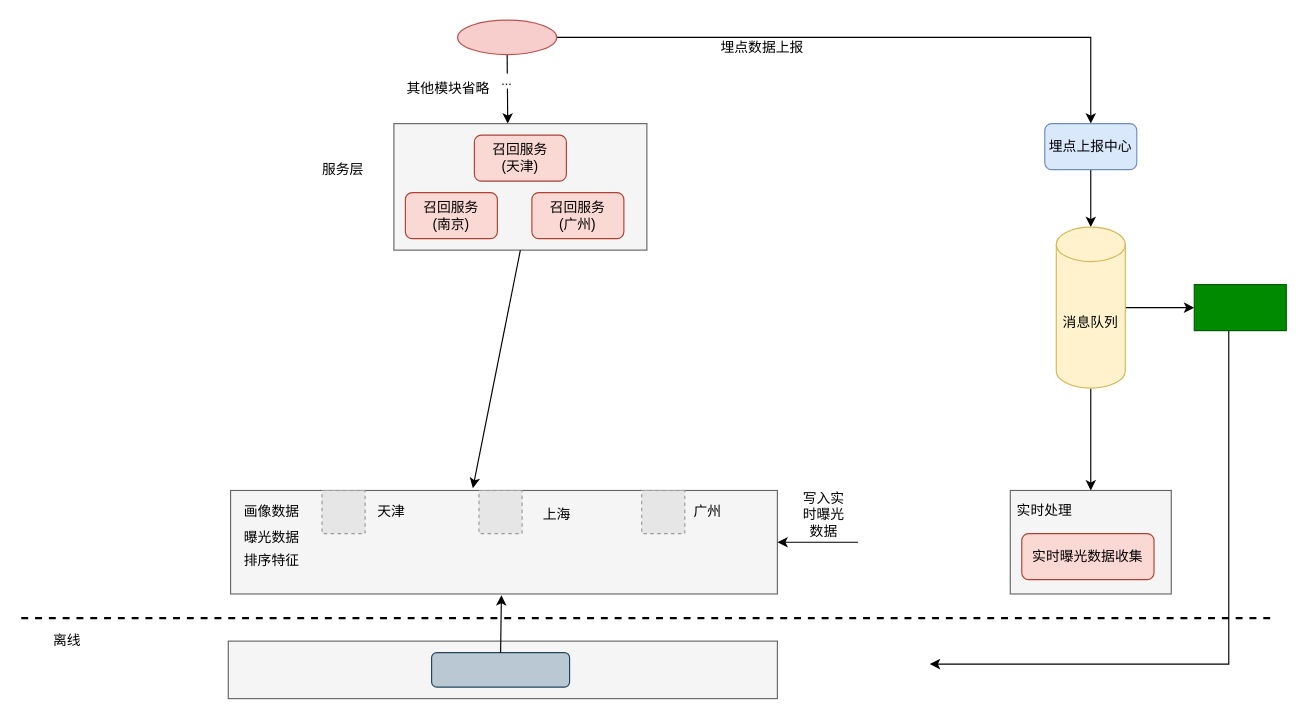
Image size: 1306x719. Some labels were removed from this diagram. Grey dashed boxes stand in for pictures. The centre of each missing label's shape, as x and y in pixels:
TDW: [1239,307]
历史曝光数据处理: [500,669]
用户: [506,37]
